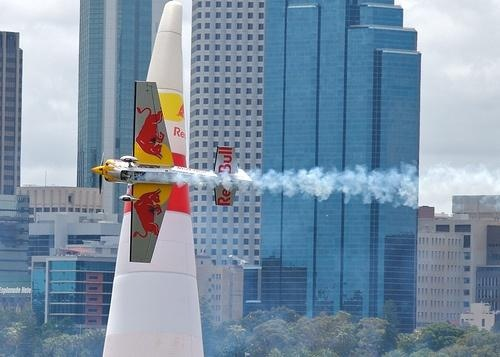aeroplane: (90, 80, 237, 264)
